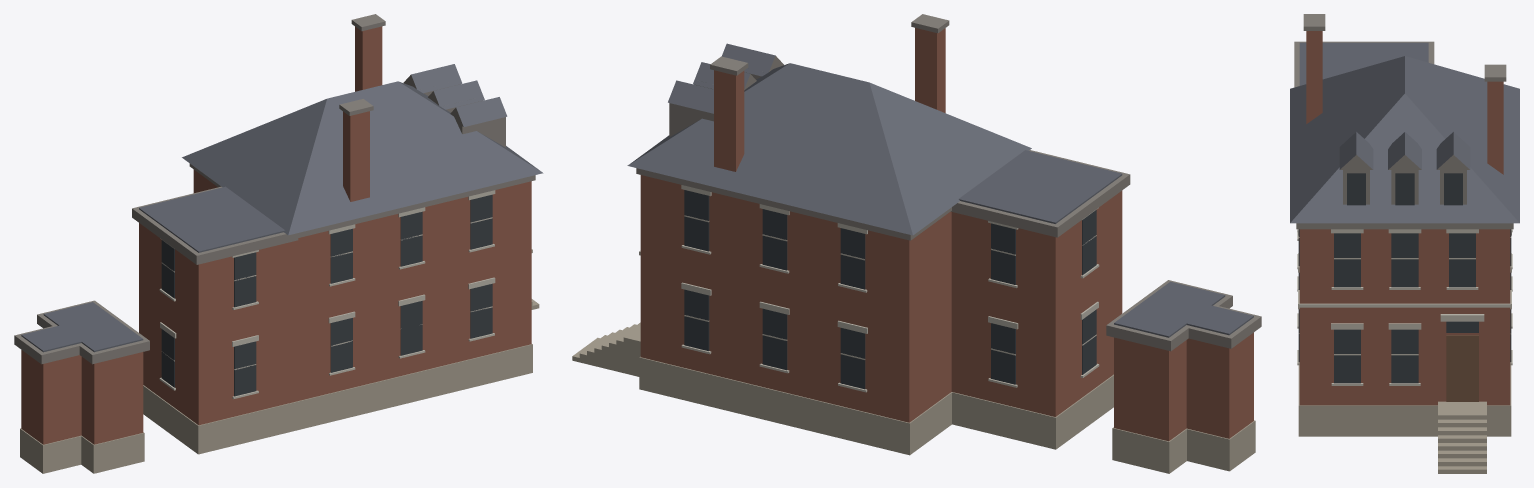
File: house_2140_calumet__draft_1904.glb
3 views of the same model, side by side, from view 1: azimuth 30°, elevation 25°; view 2: azimuth 150°, elevation 25°; view 3: azimuth 270°, elevation 25° (orthographic). The views are drawn at different scales.
Parts seen in each view (by area): view 1: house_2140_calumet__draft_1904; view 2: house_2140_calumet__draft_1904; view 3: house_2140_calumet__draft_1904.
Part boxes in pixels (x1,y1,x2,y2): house_2140_calumet__draft_1904: [14, 14, 543, 473]; house_2140_calumet__draft_1904: [572, 14, 1261, 473]; house_2140_calumet__draft_1904: [1290, 14, 1519, 473].
Size of the model in its own units: 25 by 13.28 by 8.45.
